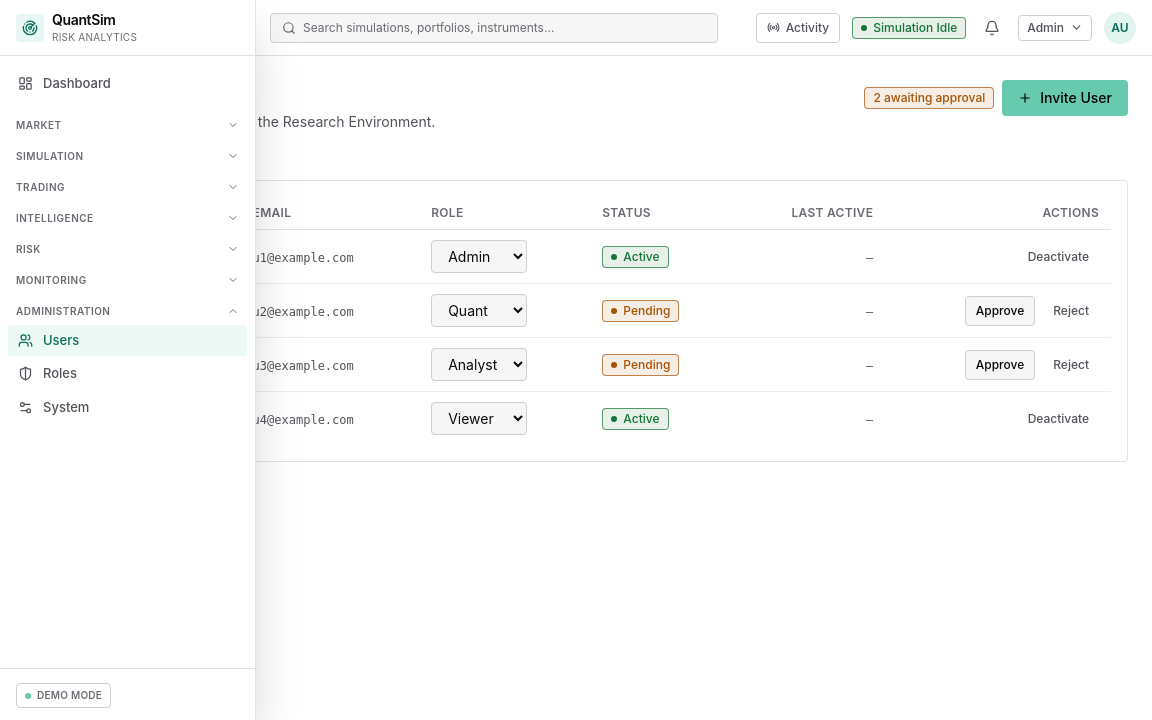
the Users page › shows pending rows with Approve and Reject and the awaiting count
Expected: the text "2 awaiting approval" is shown, 864,87 -> 994,109
Expected: the text "Pending" is shown, 602,300 -> 679,322
Click the button "Approve" in the row of "Sara Khan". click: (1000,310)
box: 965,296 -> 1035,326
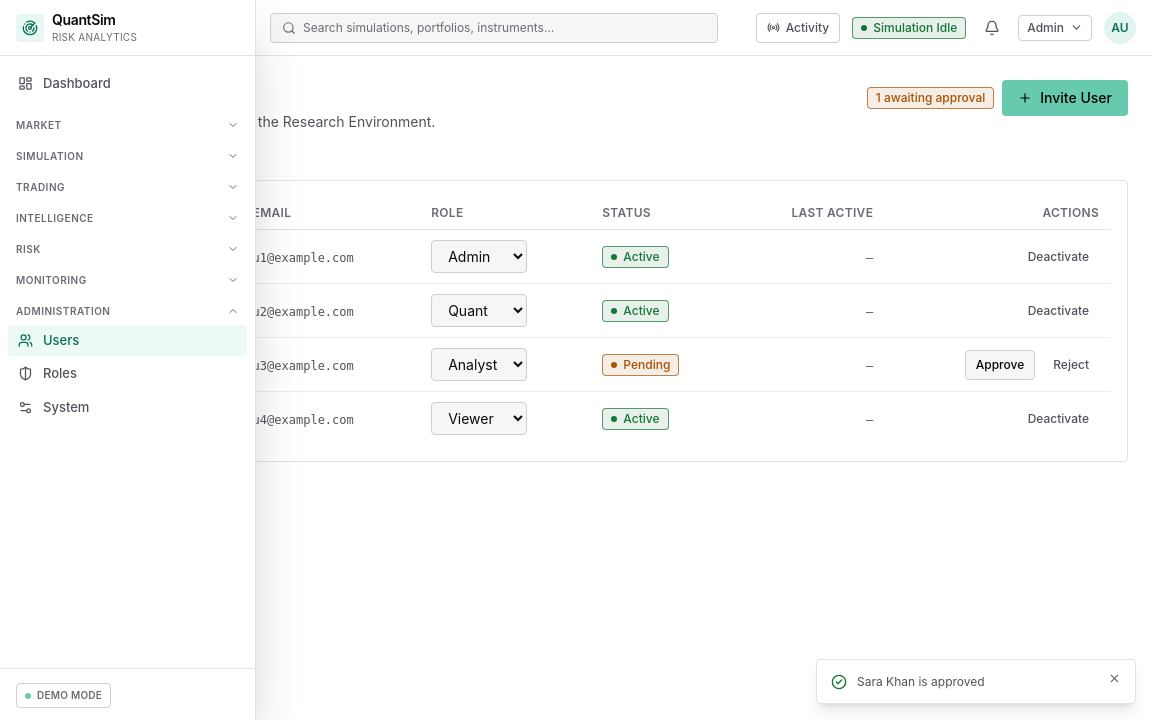
Expected: the text "Active" is shown, 602,300 -> 668,322
Expected: the text "1 awaiting approval" is shown, 867,87 -> 994,109
Click the button "Reject". click: (1071,364)
box: 1043,350 -> 1099,380
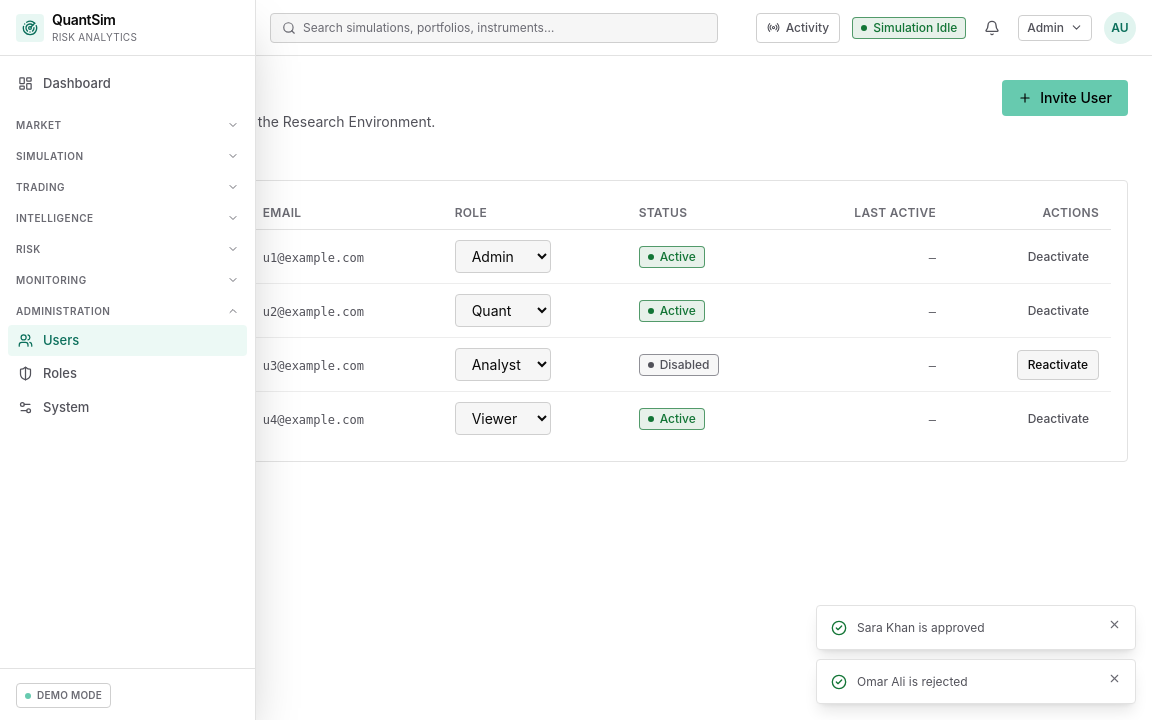
Expected: the text "Disabled" is shown, 639,354 -> 719,376
Expected: the text "awaiting approval" is gone
